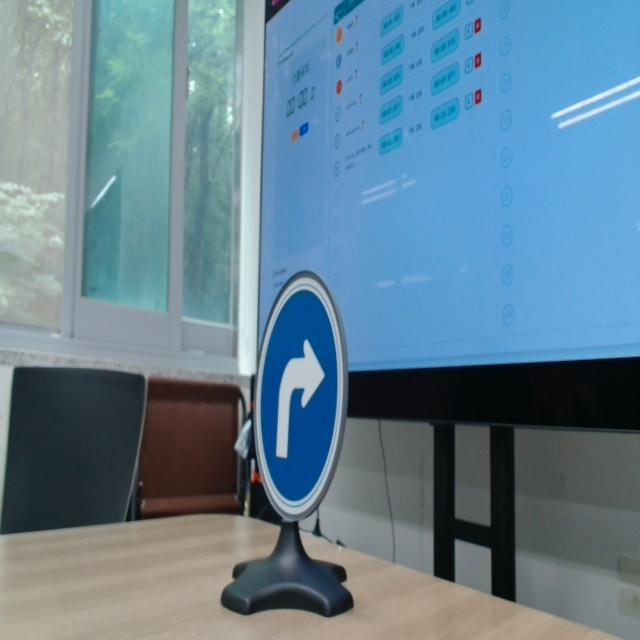right_dierection: (248, 269, 350, 518)
